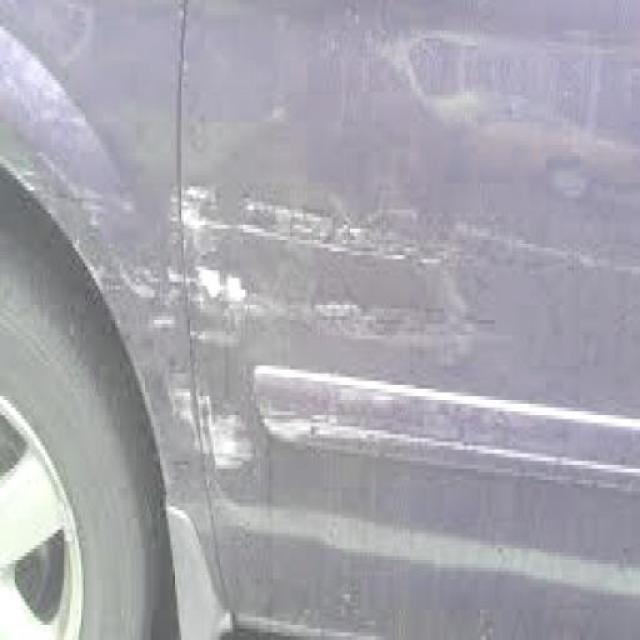car damage: (15, 122, 640, 502)
